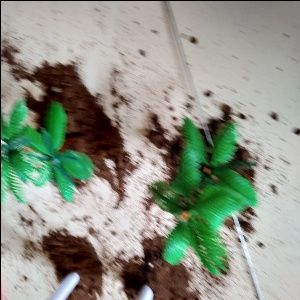plant: (147, 127, 253, 274), (4, 91, 97, 214)
